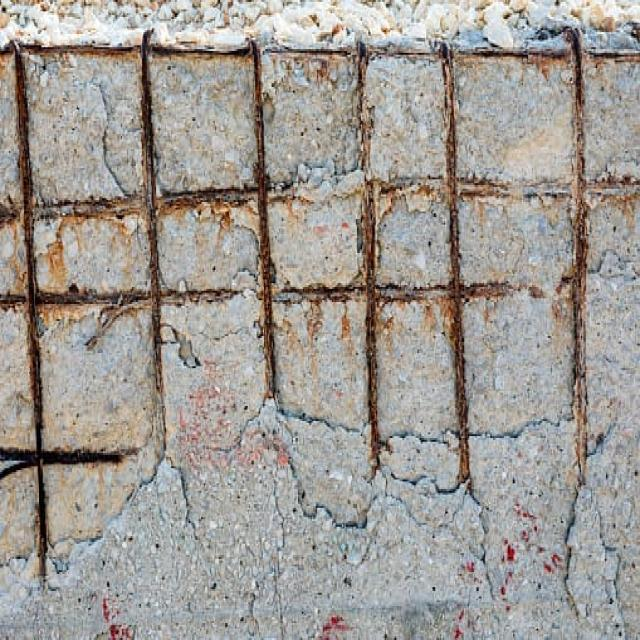spalling: (1, 42, 637, 632)
stain_mould: (0, 54, 235, 578)
